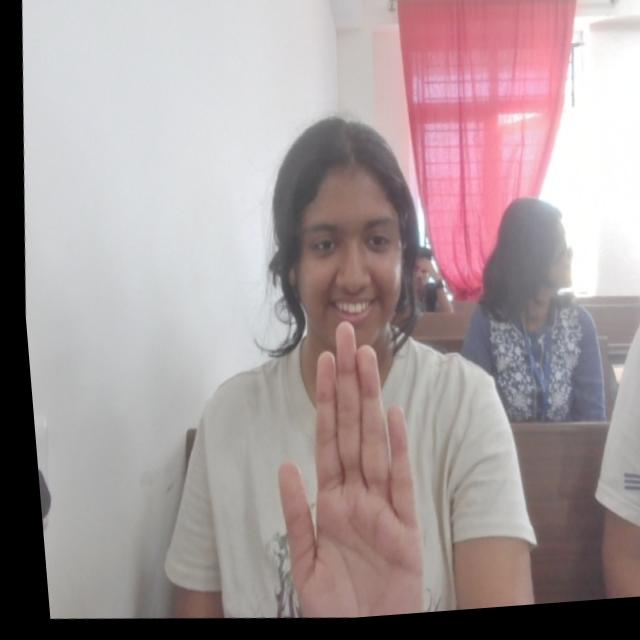hello: (249, 314, 434, 627)
